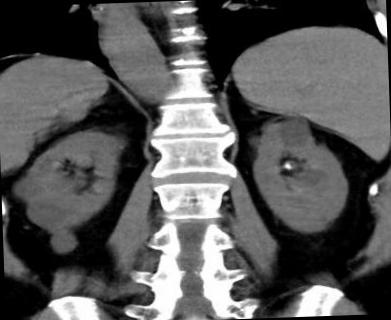Tas_Var: (284, 162, 292, 170)
